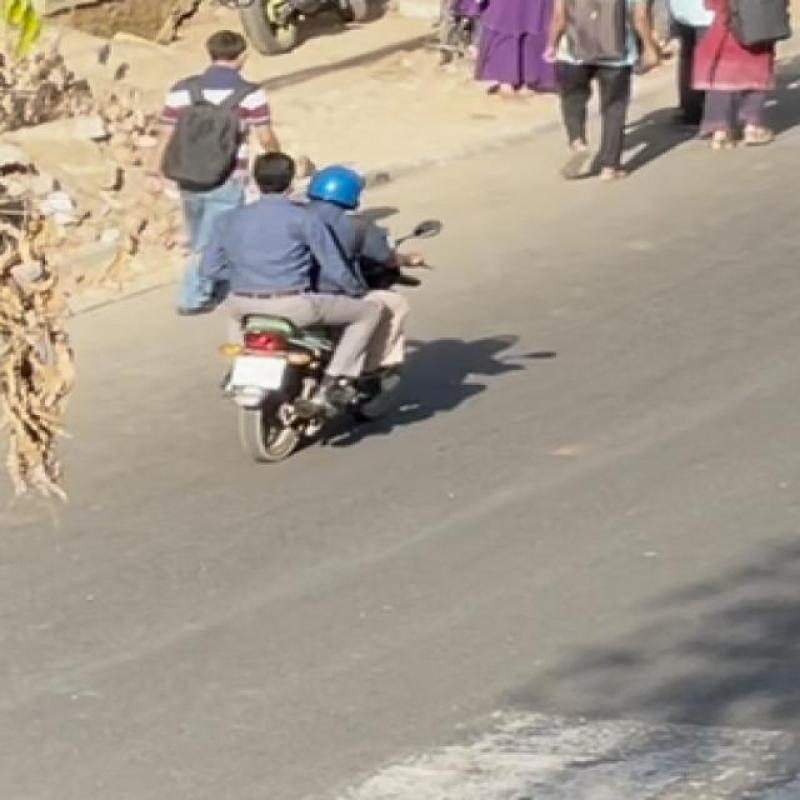nohelmet: (255, 138, 324, 240)
